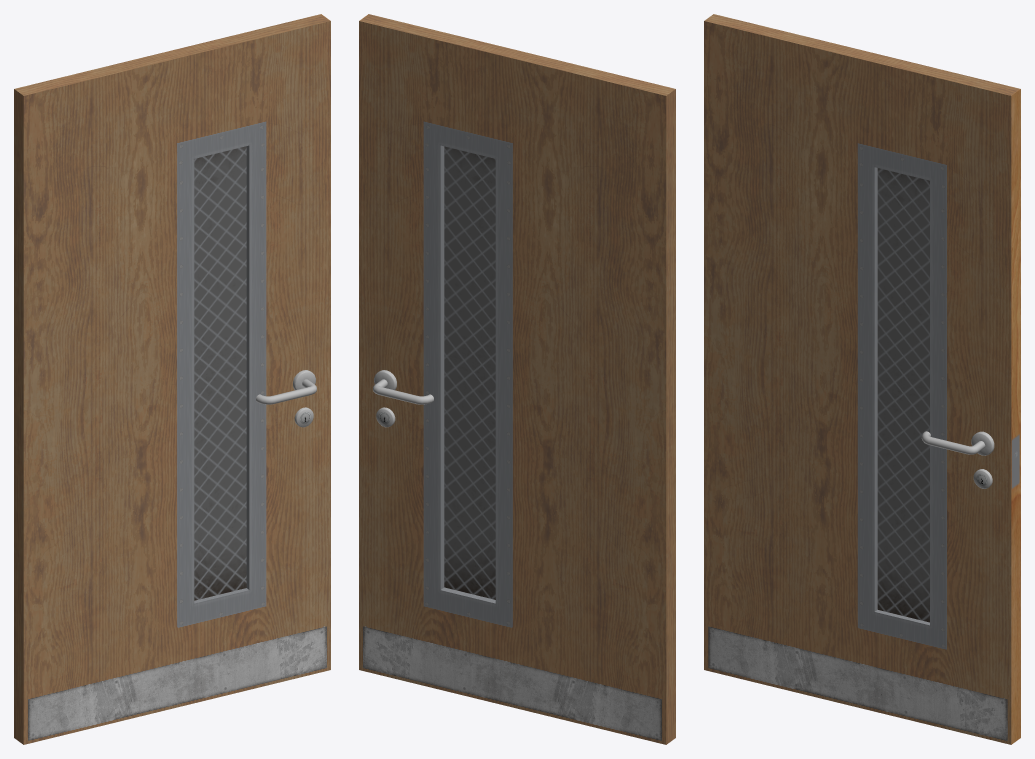
The model's file is SM_Door_02.fbx.
The picture shows the model from 3 angles, left to right: view 1: azimuth 30°, elevation 25°; view 2: azimuth 150°, elevation 25°; view 3: azimuth 330°, elevation 25°; orthographic projection.
Parts seen in each view (by area): view 1: SM_Door_02; view 2: SM_Door_02; view 3: SM_Door_02.
Part boxes in pixels (bbox=[...]): SM_Door_02: bbox=[14, 14, 330, 744]; SM_Door_02: bbox=[359, 14, 675, 744]; SM_Door_02: bbox=[704, 14, 1020, 744].
Size of the model in its own units: 114 by 23.49 by 231.
2 materials, 2 textured.
